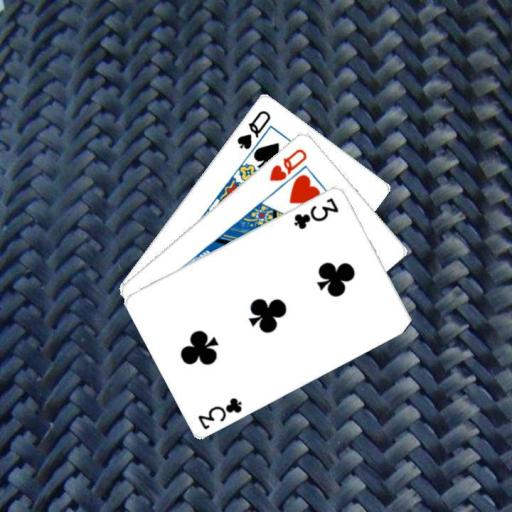3C: (194, 393, 244, 431), (291, 194, 341, 231)
QH: (266, 145, 309, 183)
QS: (234, 107, 273, 151)
